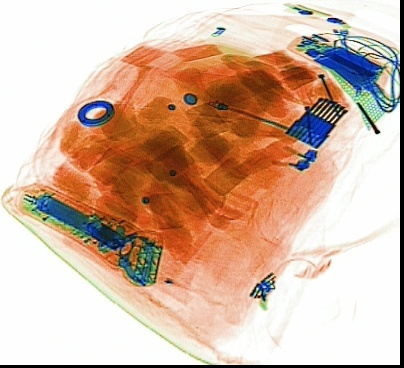powerbank: (283, 32, 383, 89)
